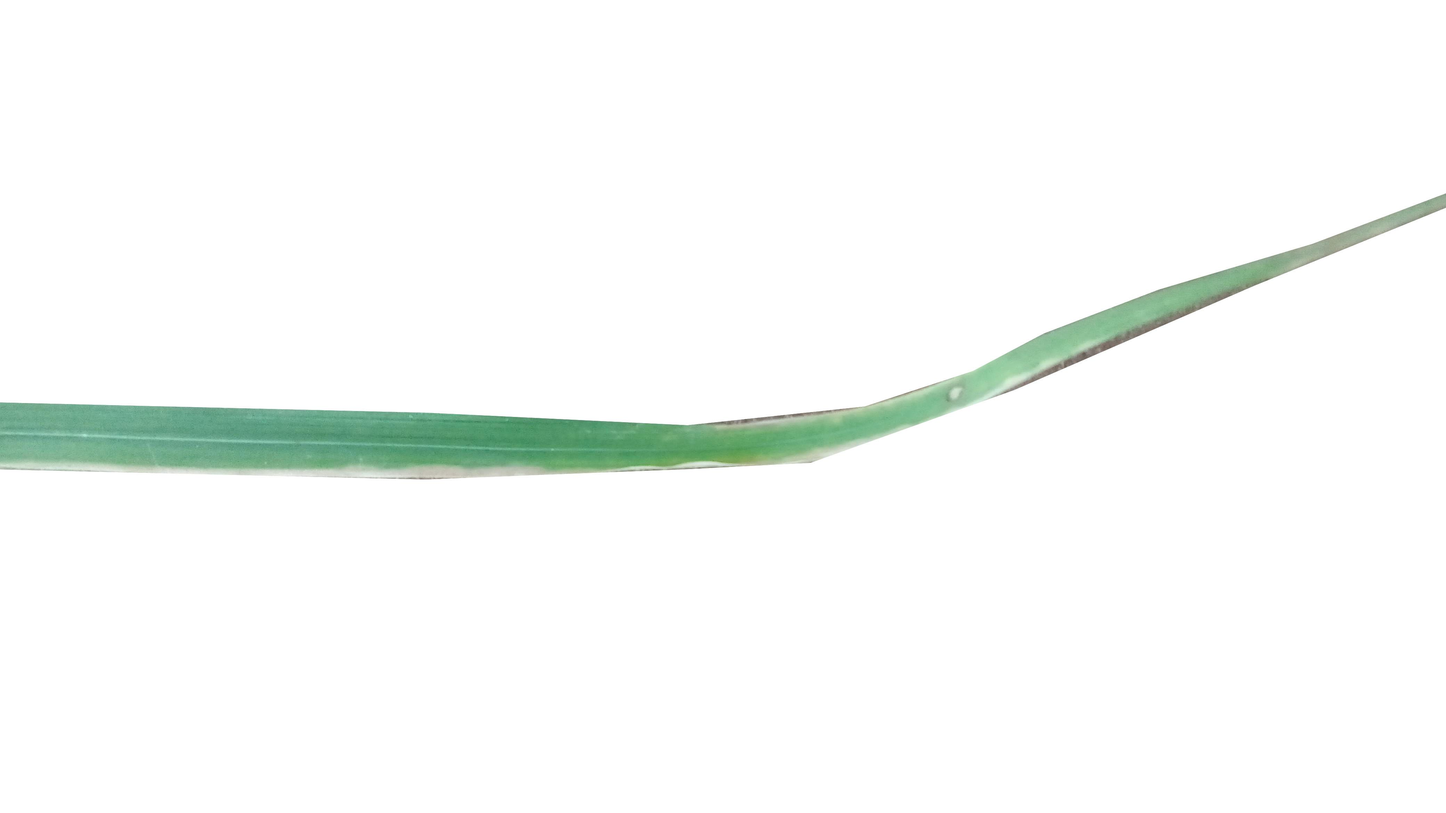Blight: (944, 377, 973, 405)
